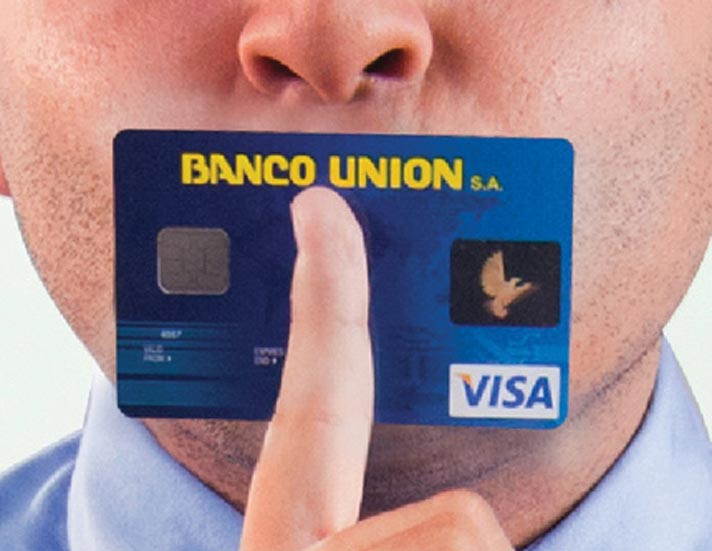tarjeta: (113, 129, 575, 428)
